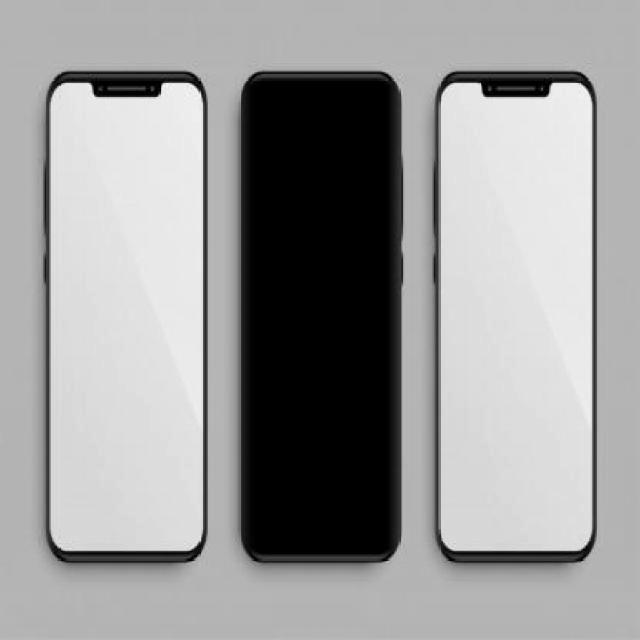fake: (238, 68, 404, 566), (434, 68, 598, 566), (46, 68, 208, 564)
